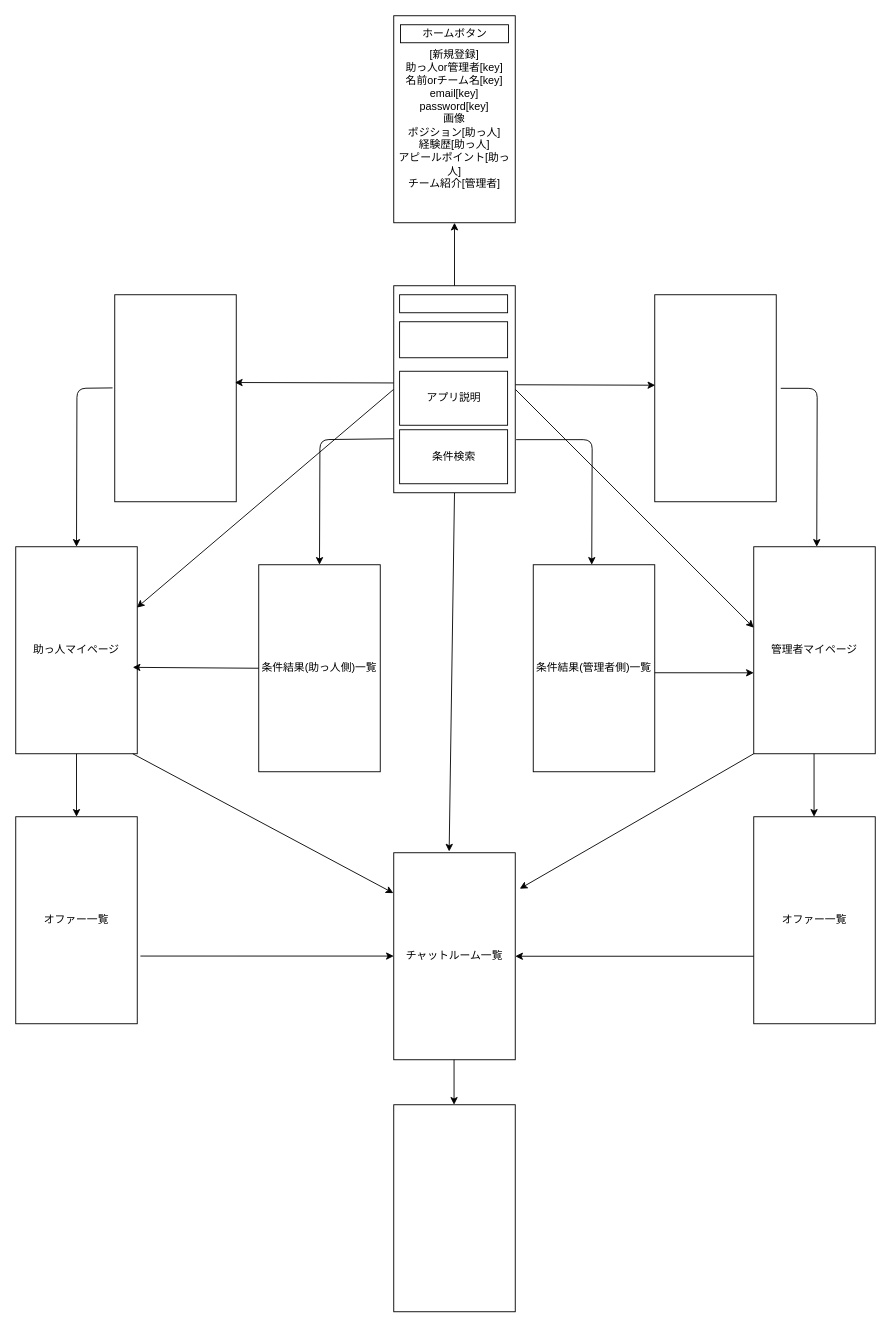
Image size: 891x1328. Some labels were removed from this diagram. Each missing label, with the box of its shape:
[助っ人ログイン] email password: (114, 294, 236, 502)
[管理者ログイン] email password: (654, 294, 776, 502)
header 新規登録etc: (399, 294, 508, 313)
チャットルーム: (393, 1104, 515, 1312)
野球画像など: (399, 321, 508, 358)
